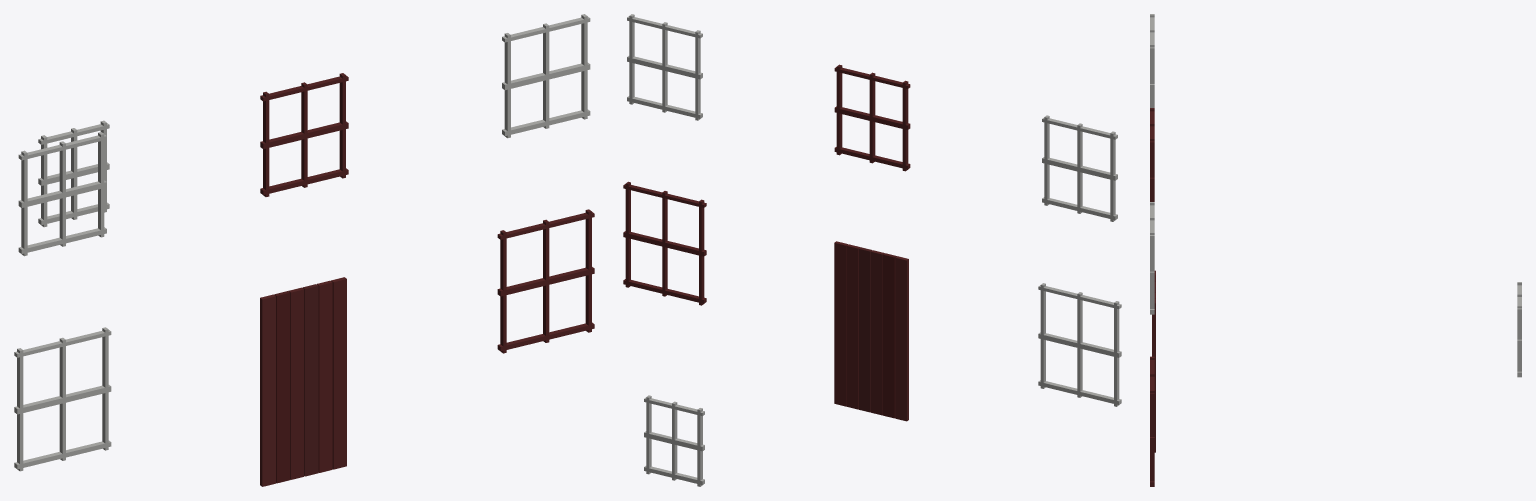
Rendered from SM_Bld_006_Wood.glb.
3 views of the same model, side by side, from view 1: azimuth 30°, elevation 25°; view 2: azimuth 150°, elevation 25°; view 3: azimuth 270°, elevation 25° (orthographic). The views are drawn at different scales.
Parts seen in each view (by area): view 1: SM_Bld_006_Wood; view 2: SM_Bld_006_Wood; view 3: SM_Bld_006_Wood.
Boxes of the visible parts, x1=… form: SM_Bld_006_Wood: x1=14, y1=14, x2=594, y2=486; SM_Bld_006_Wood: x1=623, y1=14, x2=1121, y2=486; SM_Bld_006_Wood: x1=1150, y1=14, x2=1521, y2=486.
Bounding box in the file's own units: 6.77 × 4.4 × 4.74.
